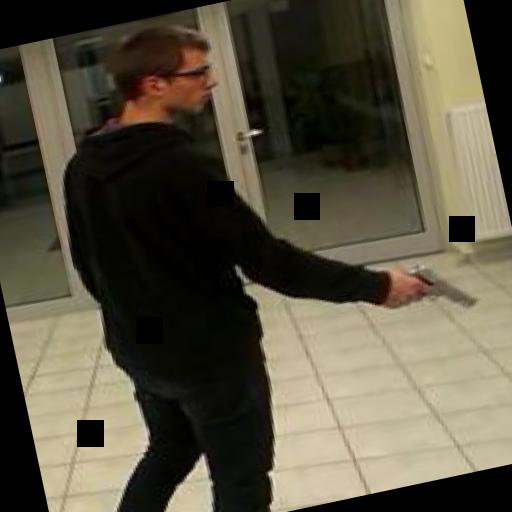Handgun: (380, 246, 476, 326)
